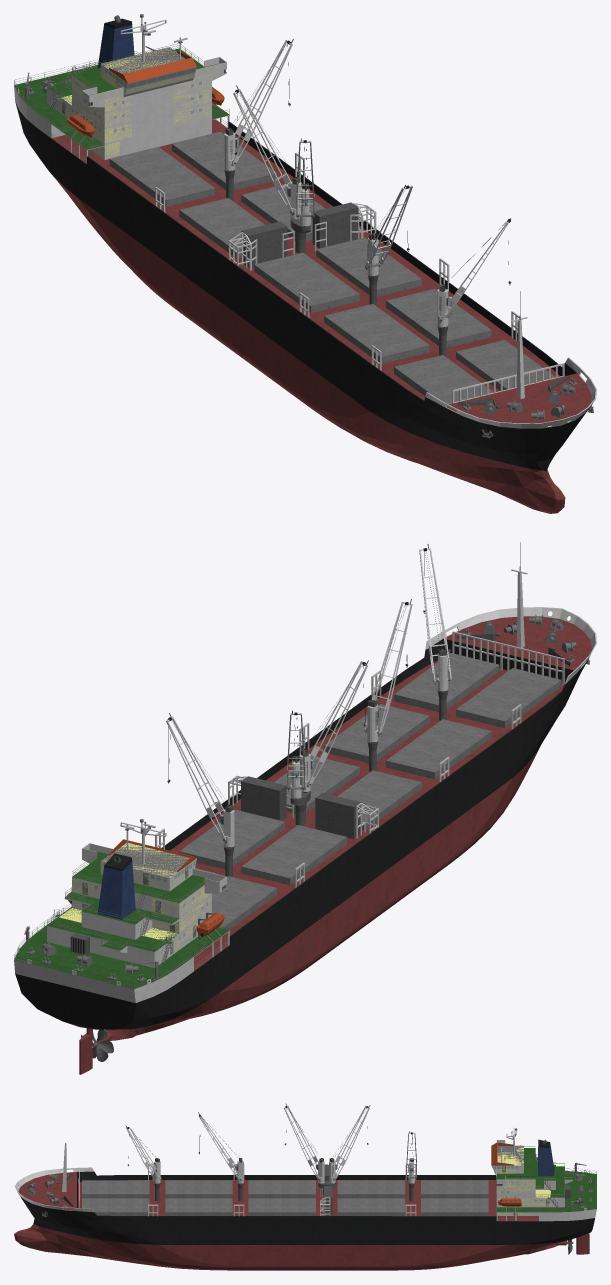
Rendered from Ship_N110220.obj.
3 renders of one model, top to bottom at view 1: azimuth 30°, elevation 25°; view 2: azimuth 150°, elevation 25°; view 3: azimuth 270°, elevation 25°, orthographic. The views are drawn at different scales.
Parts seen in each view (by area): view 1: mesh_53, mesh_14, mesh_10, mesh_13, mesh_58, mesh_11, mesh_51, mesh_52, mesh_54, mesh_56, mesh_32, mesh_4 (+8 smaller); view 2: mesh_53, mesh_14, mesh_10, mesh_13, mesh_58, mesh_56, mesh_11, mesh_51, mesh_52, mesh_54, mesh_32, mesh_4 (+7 smaller); view 3: mesh_14, mesh_53, mesh_10, mesh_11, mesh_13, mesh_56, mesh_58, mesh_32, mesh_54, mesh_51, mesh_4, mesh_12 (+8 smaller).
Boxes of the visible parts, bbox=[...] form: mesh_53: bbox=[109, 131, 555, 404]; mesh_14: bbox=[15, 102, 589, 471]; mesh_10: bbox=[53, 176, 565, 513]; mesh_13: bbox=[51, 119, 591, 426]; mesh_58: bbox=[14, 57, 229, 163]; mesh_11: bbox=[87, 121, 576, 419]; mesh_51: bbox=[155, 153, 564, 403]; mesh_52: bbox=[241, 202, 358, 267]; mesh_54: bbox=[61, 47, 211, 158]; mesh_56: bbox=[14, 48, 229, 149]; mesh_32: bbox=[233, 89, 314, 226]; mesh_4: bbox=[25, 14, 577, 421]; mesh_53: bbox=[179, 566, 561, 929]; mesh_14: bbox=[15, 660, 587, 1029]; mesh_10: bbox=[65, 746, 540, 1040]; mesh_13: bbox=[79, 616, 591, 1074]; mesh_58: bbox=[14, 843, 229, 1002]; mesh_56: bbox=[14, 850, 229, 989]; mesh_11: bbox=[161, 638, 577, 944]; mesh_51: bbox=[155, 569, 564, 888]; mesh_52: bbox=[241, 776, 360, 839]; mesh_54: bbox=[59, 843, 211, 955]; mesh_32: bbox=[287, 661, 367, 798]; mesh_4: bbox=[24, 614, 576, 981]; mesh_14: bbox=[21, 1197, 594, 1244]; mesh_53: bbox=[65, 1143, 488, 1216]; mesh_10: bbox=[14, 1224, 568, 1270]; mesh_11: bbox=[77, 1171, 496, 1221]; mesh_13: bbox=[18, 1172, 589, 1254]; mesh_56: bbox=[496, 1148, 596, 1212]; mesh_58: bbox=[491, 1140, 596, 1221]; mesh_32: bbox=[284, 1105, 369, 1183]; mesh_54: bbox=[494, 1146, 550, 1215]; mesh_51: bbox=[62, 1143, 416, 1216]; mesh_4: bbox=[27, 1128, 592, 1212]; mesh_12: bbox=[14, 1167, 94, 1212].
Size of the model in its own units: 28.24 by 44.55 by 167.
